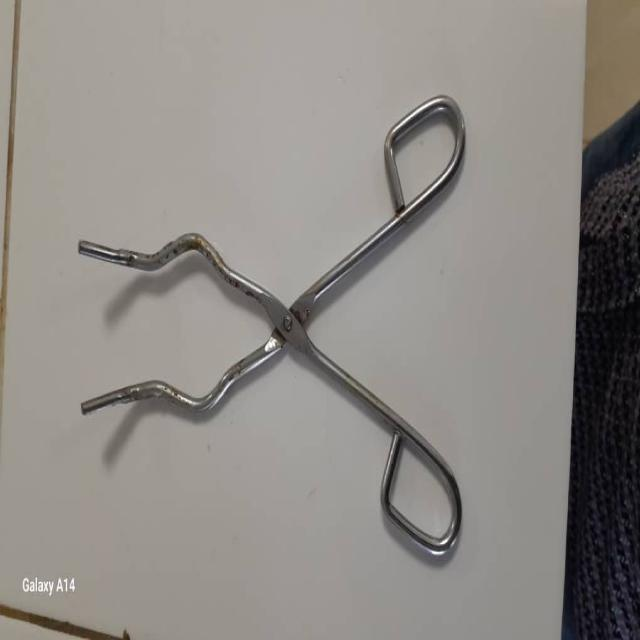Tongue: (60, 92, 488, 570)
